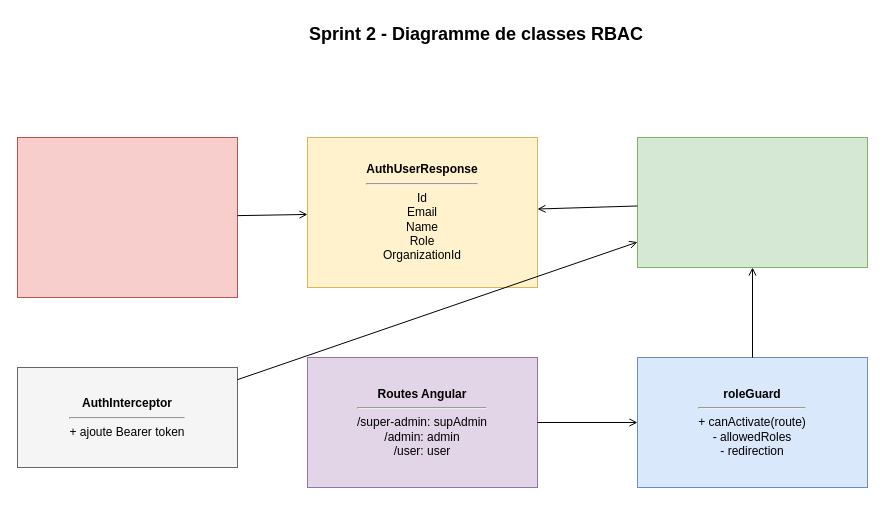
Image size: 885x505. Some labels were removed from this diagram. Each missing label, with the centre of its shape:
AuthService + getCurrentUser() + isAuthenticated() + logout(): the point at 752,202
User Id Email Role OrganizationId Profile AccessYearList: the point at 127,217
